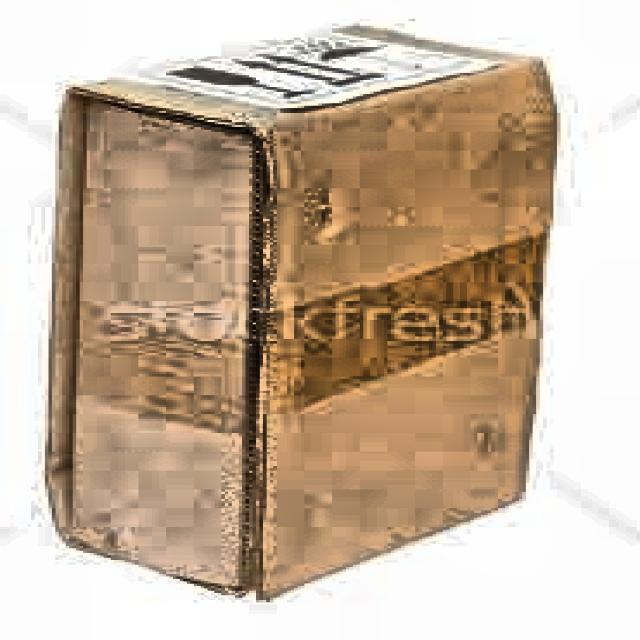Cardbox: (35, 22, 572, 610)
